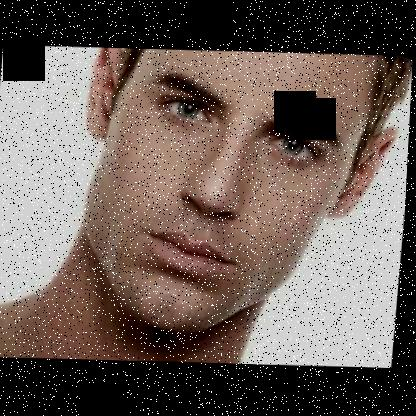Male: (70, 45, 402, 334)
